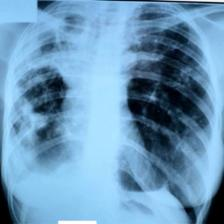tuberculosis: (7, 1, 211, 224)
